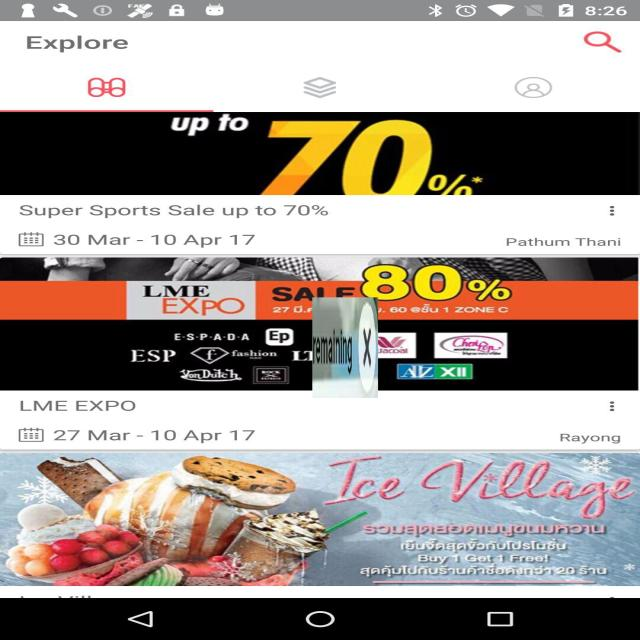misdirection: (312, 297, 378, 398)
